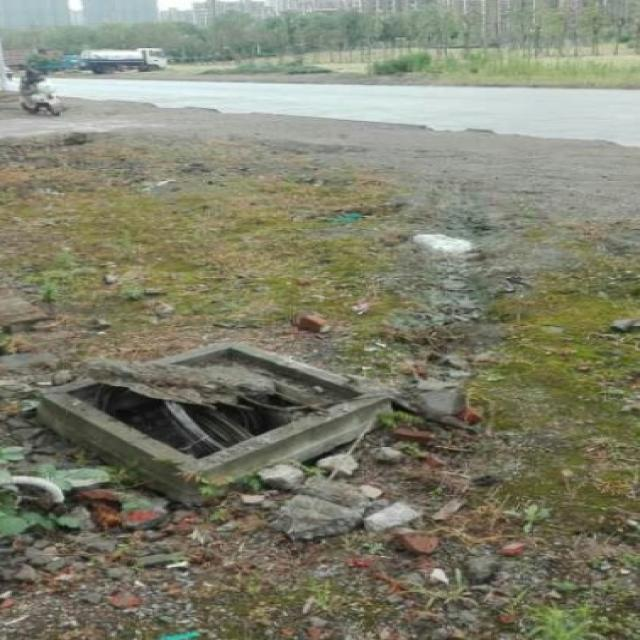Broken: (35, 333, 389, 494)
